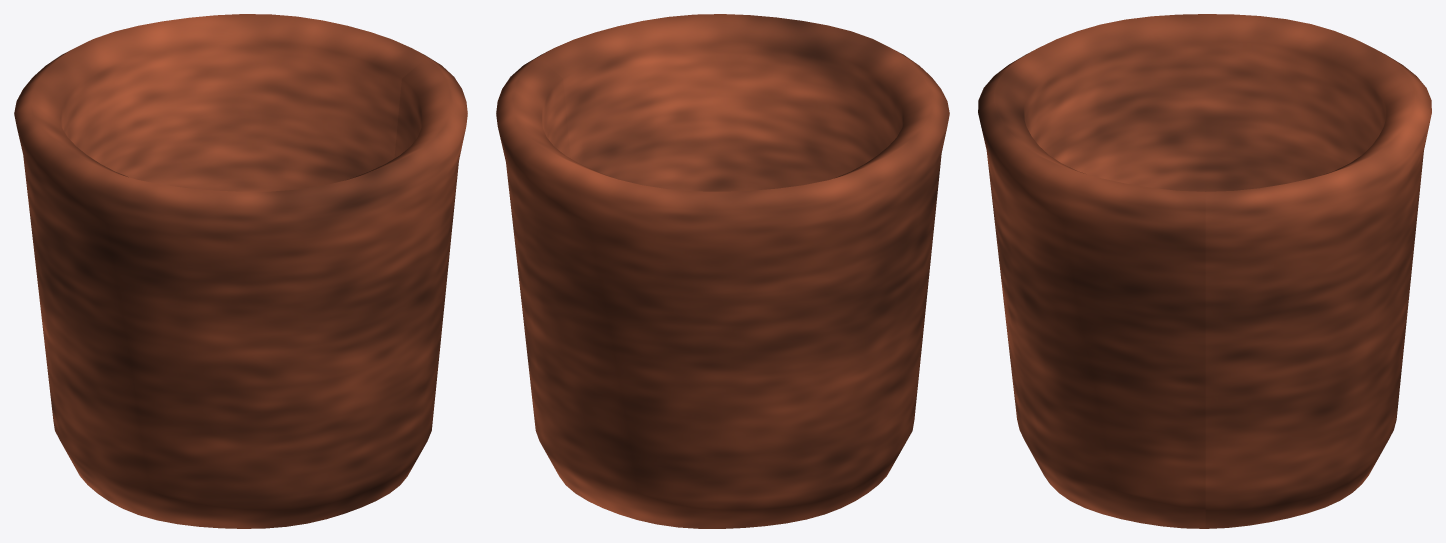
Rendered from cup_clay.glb.
The picture shows the model from 3 angles, left to right: view 1: azimuth 30°, elevation 25°; view 2: azimuth 150°, elevation 25°; view 3: azimuth 270°, elevation 25°; orthographic projection.
Parts seen in each view (by area): view 1: clay; view 2: clay; view 3: clay.
Part boxes in pixels (x1,y1,x2,y2): clay: (14,14,467,528); clay: (496,14,949,528); clay: (978,14,1431,528).
Bounding box in the file's own units: 0.11 × 0.095 × 0.11.
Materials: 1 (1 with a texture image).
